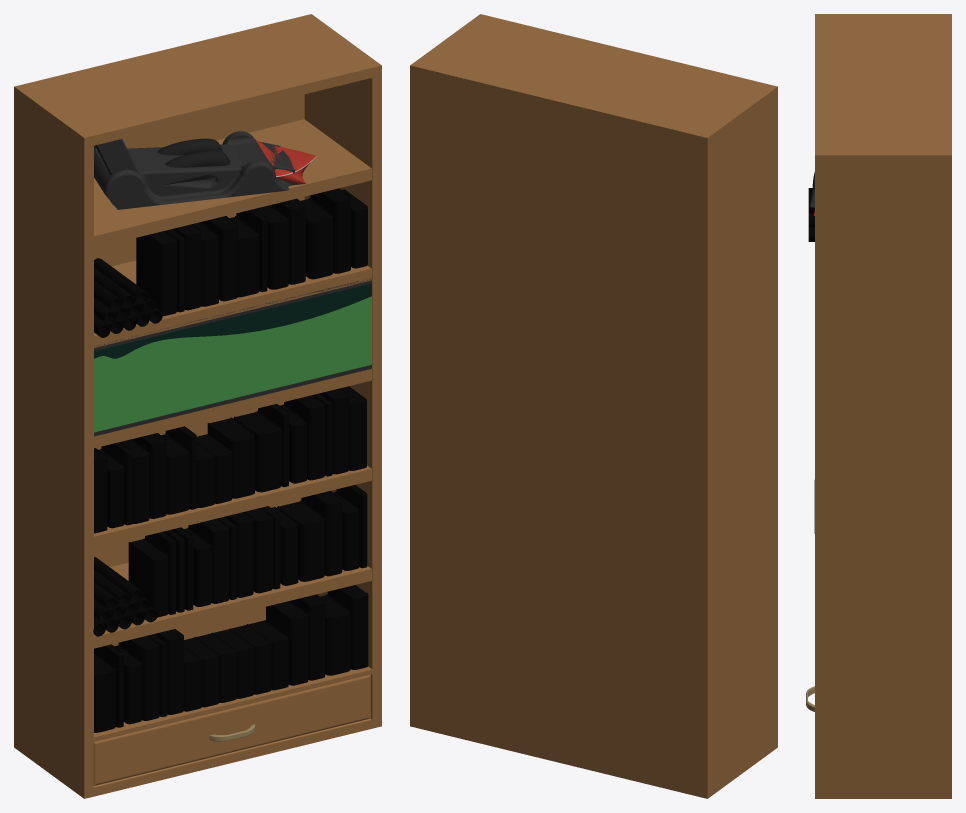
File: Daedelus Bookshelf 001.fbx
3 views of the same model, side by side, from view 1: azimuth 30°, elevation 25°; view 2: azimuth 150°, elevation 25°; view 3: azimuth 270°, elevation 25° (orthographic). The views are drawn at different scales.
Parts seen in each view (by area): view 1: Body10 (×3), Body2 (×2), Body54, Body12, Body5 (×2), Body6 (×2), Body3, Body49, Body13 (×2), Body4, Body48, Body37 (+59 smaller); view 2: Body10, Body12; view 3: Body10.
Boxes of the visible parts, left/top/right/bottom form: Body10 (×3): left=14, top=14, right=381, bottom=798; Body2 (×2): left=94, top=119, right=371, bottom=247; Body54: left=94, top=296, right=371, bottom=432; Body12: left=93, top=674, right=371, bottom=786; Body5 (×2): left=94, top=151, right=371, bottom=648; Body6 (×2): left=94, top=138, right=371, bottom=548; Body3: left=94, top=260, right=371, bottom=347; Body49: left=94, top=283, right=371, bottom=358; Body13 (×2): left=136, top=140, right=315, bottom=316; Body4: left=94, top=369, right=371, bottom=448; Body48: left=128, top=538, right=167, bottom=617; Body37: left=233, top=411, right=281, bottom=492; Body10: left=410, top=14, right=777, bottom=798; Body12: left=419, top=674, right=698, bottom=787; Body10: left=815, top=14, right=951, bottom=798.
Size of the model in its own units: 34.2 by 72.6 by 14.9.
